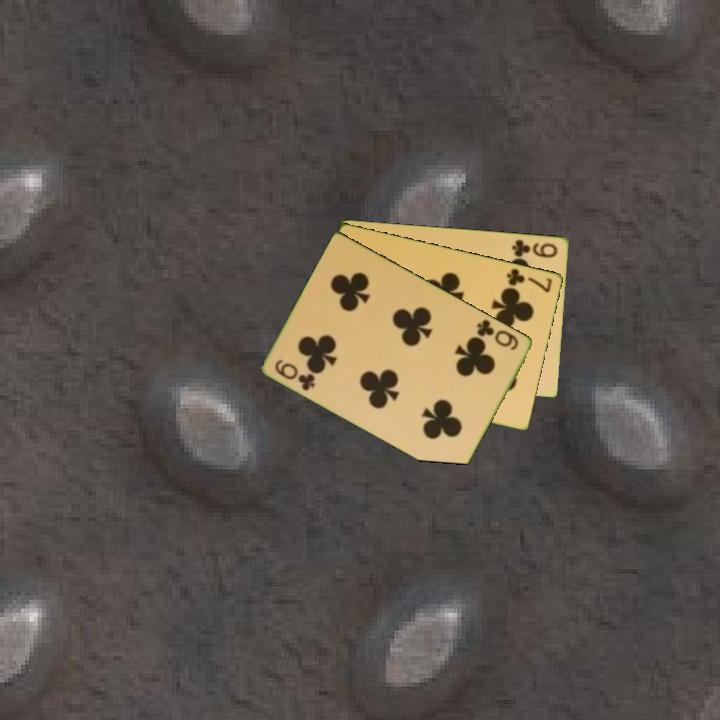6c: (473, 315, 522, 353), (271, 356, 319, 394)
7c: (503, 264, 555, 295)
9c: (509, 236, 560, 260)
